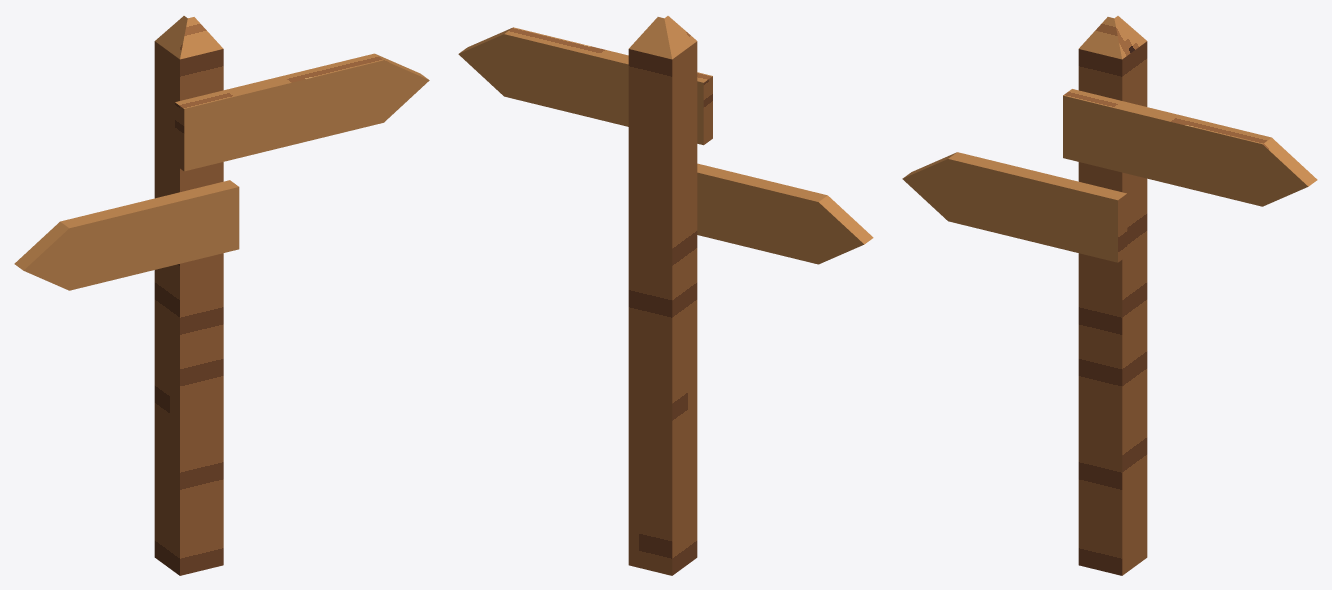
Rendered from signpost.glb.
3 renders of one model, left to right at view 1: azimuth 30°, elevation 25°; view 2: azimuth 150°, elevation 25°; view 3: azimuth 330°, elevation 25°, orthographic.
Parts seen in each view (by area): view 1: signpost; view 2: signpost; view 3: signpost.
Boxes of the visible parts, x1,y1,x2,y2 form: signpost: (14,16,429,575); signpost: (458,16,873,575); signpost: (902,16,1317,575).
Bounding box in the file's own units: 1.77 × 2.27 × 0.265.
Materials: 1 (1 with a texture image).
